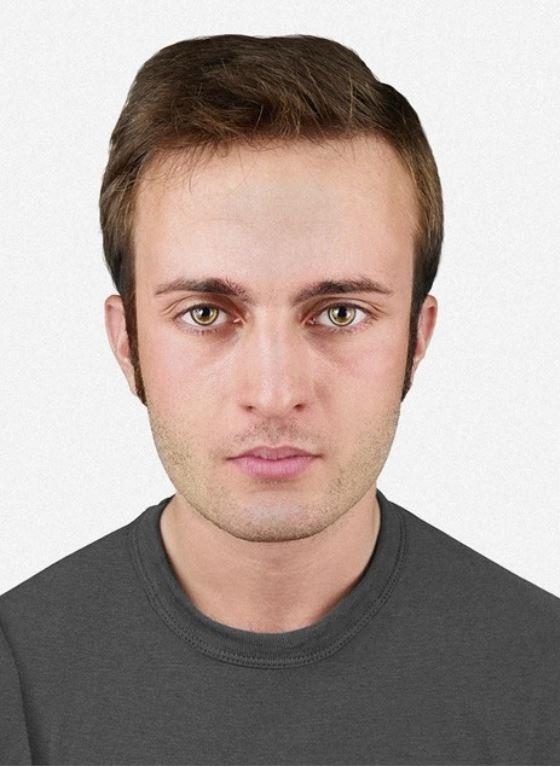Sober: (139, 157, 412, 517)
